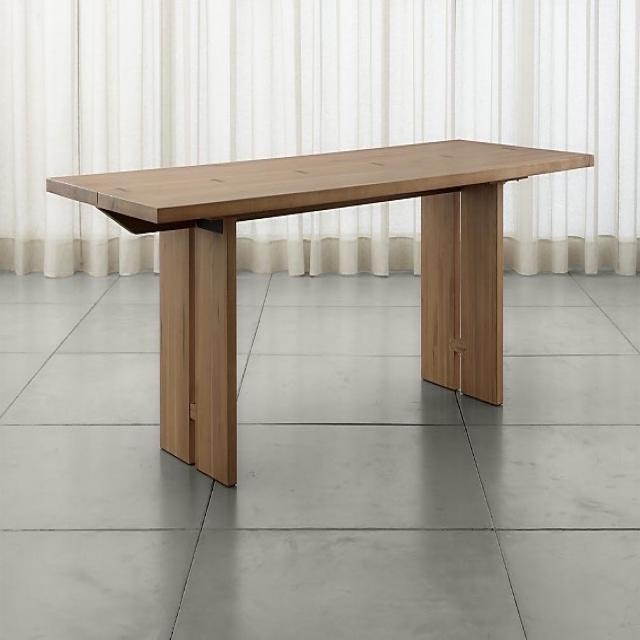table: (23, 98, 620, 518)
